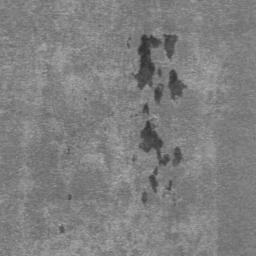Iron scale compression: (134, 35, 178, 91), (139, 121, 185, 166), (167, 71, 187, 100), (150, 167, 159, 191), (153, 83, 163, 103), (142, 104, 149, 114), (141, 190, 147, 201), (166, 181, 172, 190)
